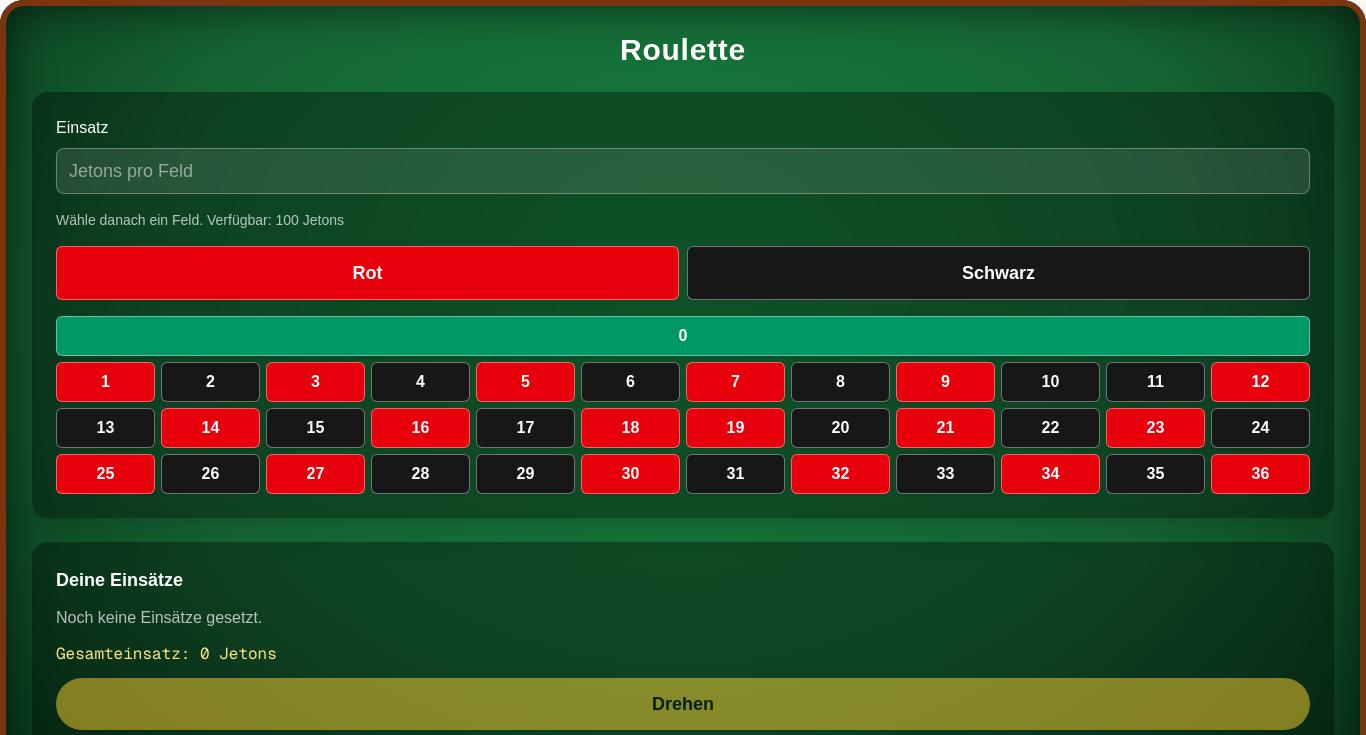
it: RouletteGame: Einsaetze setzen › lehnt den ungueltigen Einsatz '' ab
Clear the field labelled "Einsatz". click: (683, 171)
box: 56,148 -> 1310,194
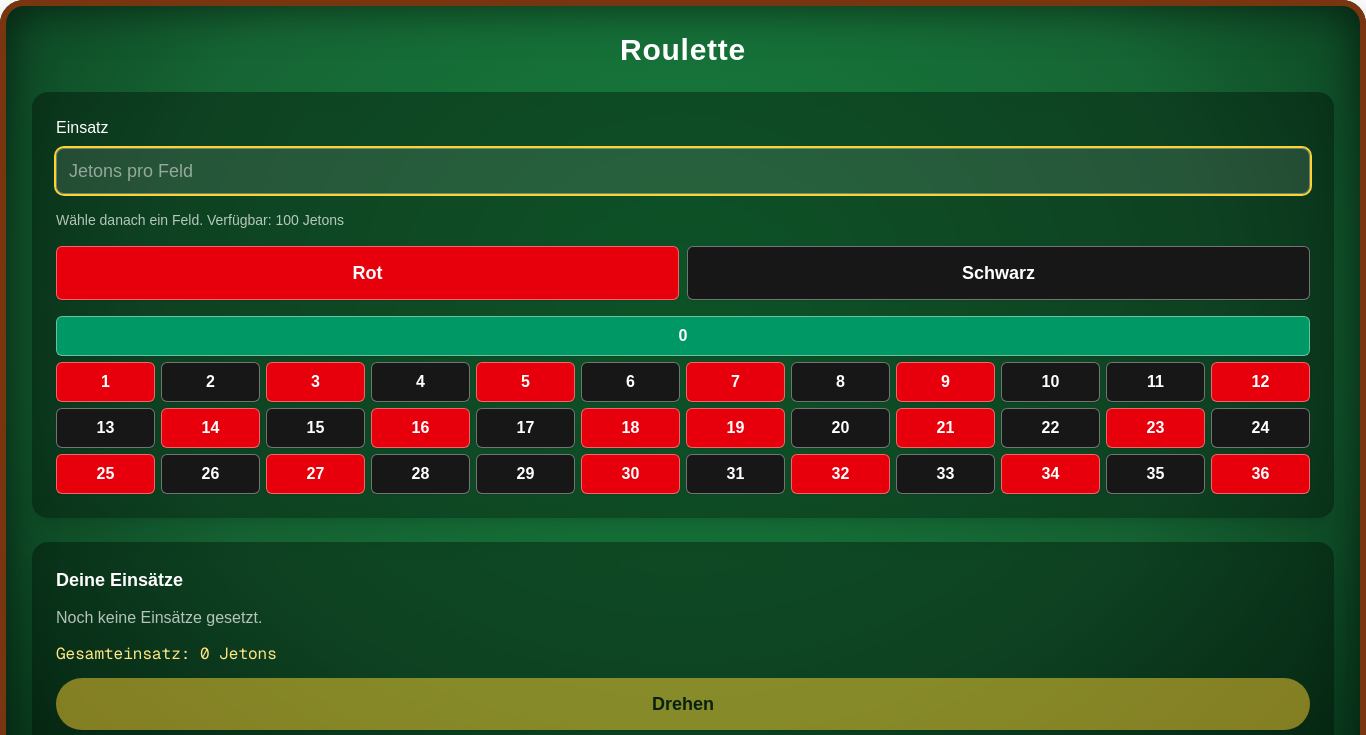
Click the button "Rot". click: (368, 273)
box: 56,246 -> 679,300
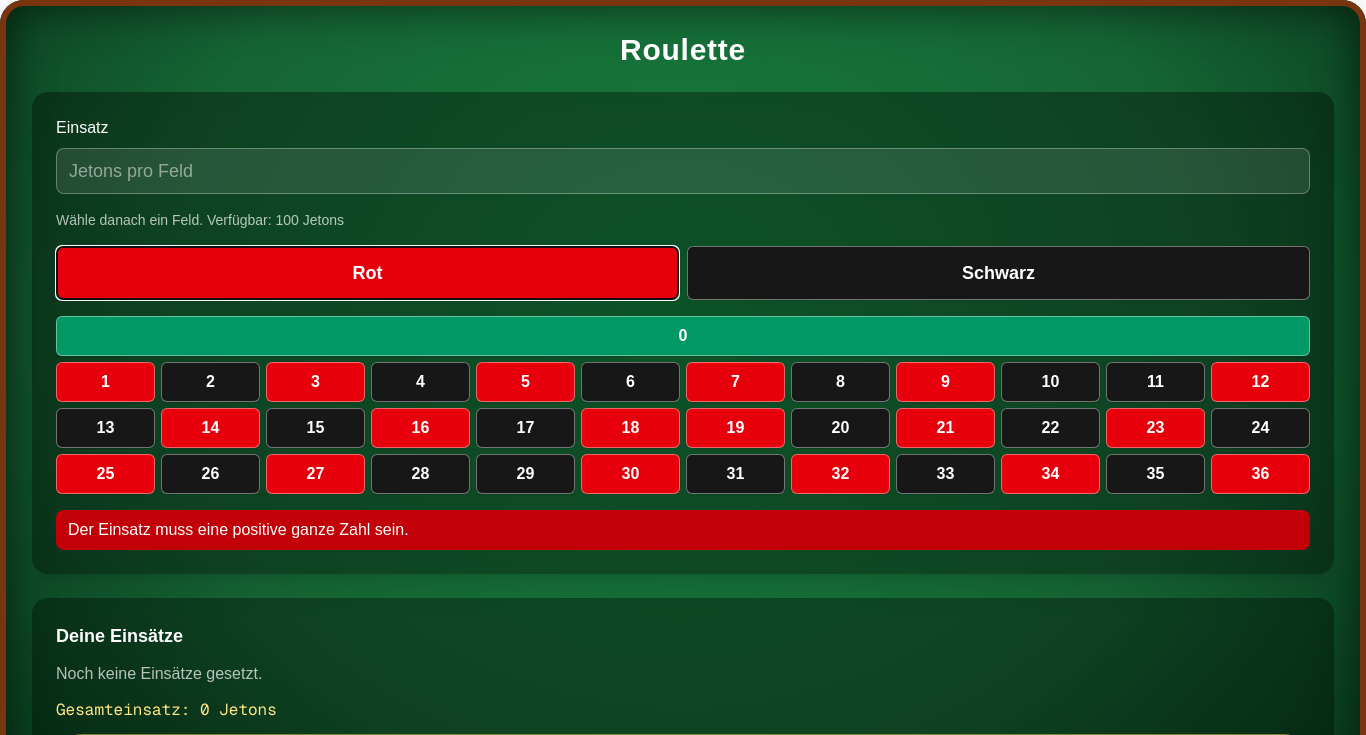
Now the message "Der Einsatz muss eine positive ganze Zahl sein." is shown, box 56,510 -> 1310,550
